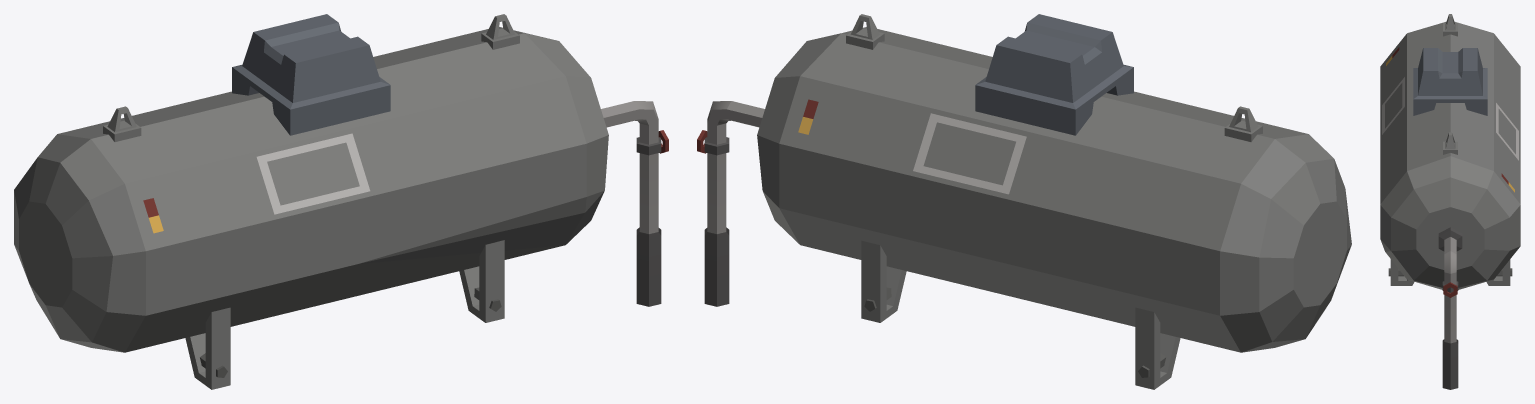
File: SM_Prop_Gastank_01.fbx
3 renders of one model, left to right at view 1: azimuth 30°, elevation 25°; view 2: azimuth 150°, elevation 25°; view 3: azimuth 270°, elevation 25°, orthographic. The views are drawn at different scales.
Parts seen in each view (by area): view 1: SM_Prop_Gastank_01; view 2: SM_Prop_Gastank_01; view 3: SM_Prop_Gastank_01.
Part boxes in pixels (left/top/right/bottom): SM_Prop_Gastank_01: left=14, top=14, right=668, bottom=389; SM_Prop_Gastank_01: left=697, top=14, right=1351, bottom=389; SM_Prop_Gastank_01: left=1380, top=14, right=1520, bottom=389.
Size of the model in its own units: 642 by 342 by 197.
